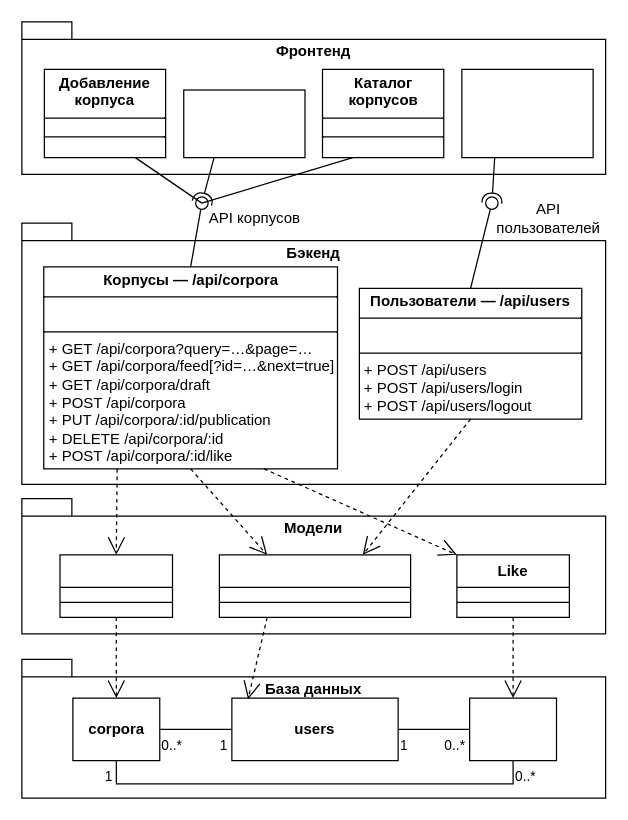
The diagram is 628 pixels wide and 820 high, and some of its shapes have lost their labels. Each missing label, with the centre of its shape:
"Corpus" goes at (115,585).
"likes" goes at (512,729).
"User" goes at (314,585).
"Лента" goes at (243,123).
"Регистрация / авторизация" goes at (527,113).
